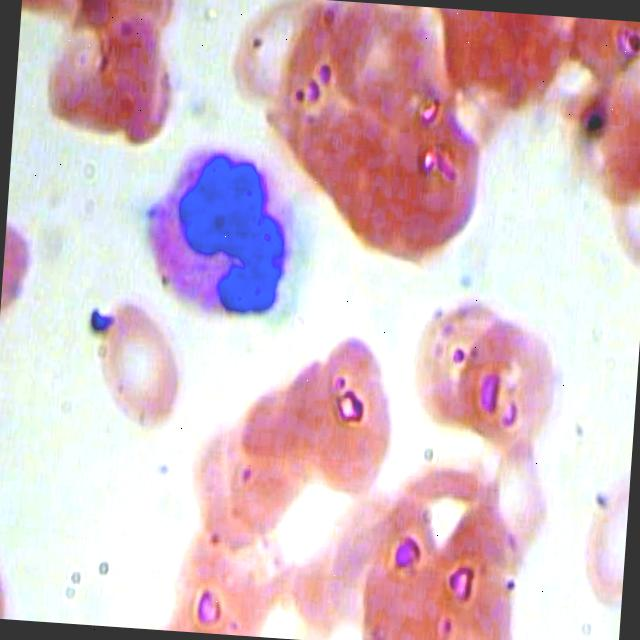RBC: (364, 100, 492, 260), (299, 322, 404, 495), (447, 306, 568, 454), (395, 286, 516, 434), (465, 424, 586, 572), (76, 296, 196, 443), (335, 505, 462, 640), (79, 9, 187, 164), (318, 0, 448, 128), (235, 360, 318, 532), (271, 329, 354, 500), (208, 383, 291, 554), (159, 520, 278, 638), (178, 387, 260, 558), (217, 0, 321, 116), (556, 60, 640, 201), (572, 470, 630, 614), (588, 136, 640, 272)
WBC: (130, 132, 299, 338)
